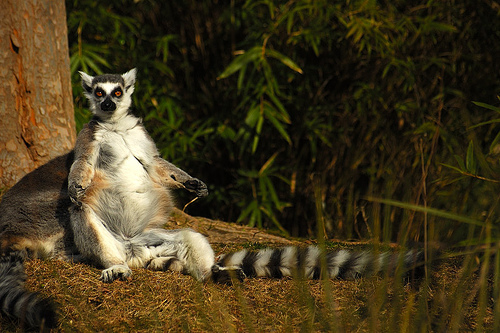cat: (66, 66, 448, 286)
